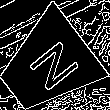N_SW: (16, 34, 78, 97)
